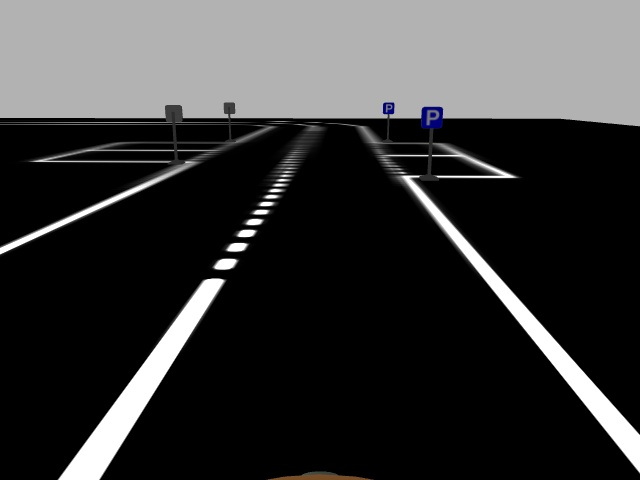parking: (421, 106, 443, 129), (382, 102, 395, 115)
